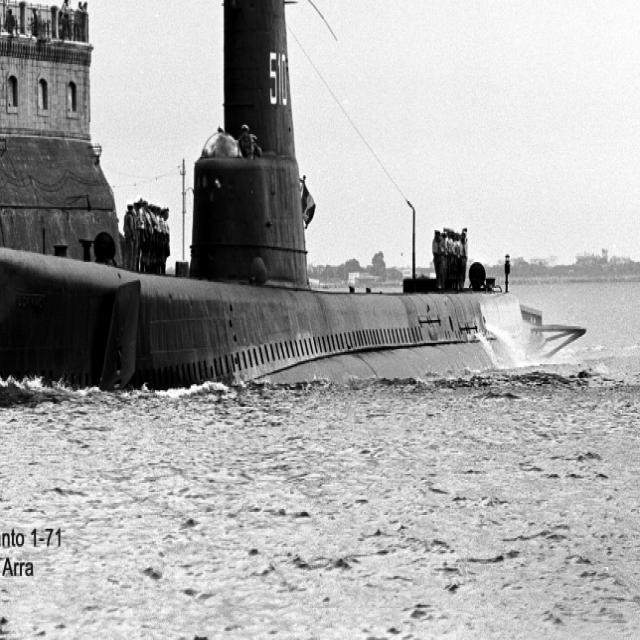submarine: (1, 1, 583, 391)
